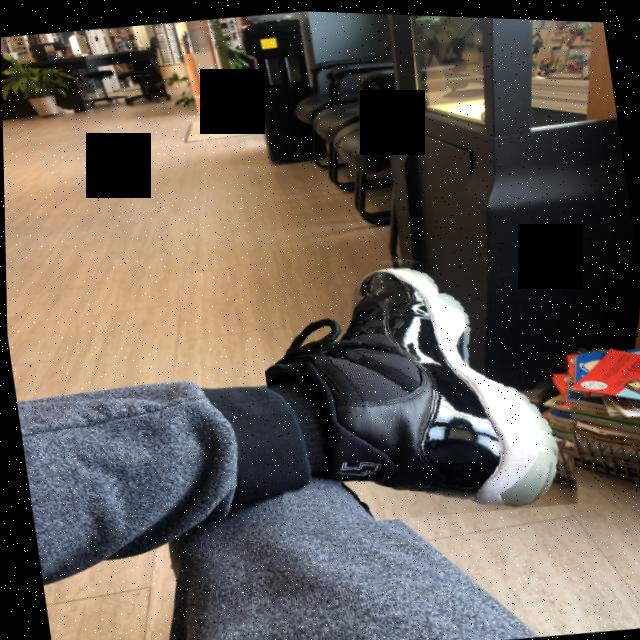shoe: (247, 221, 595, 535)
